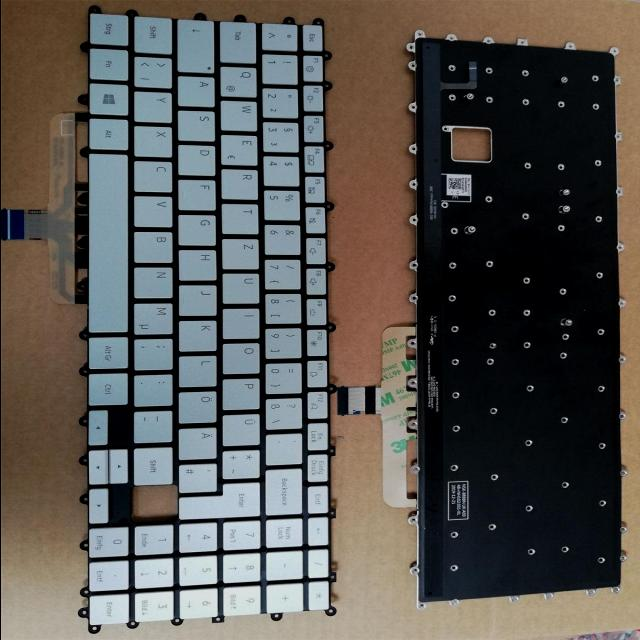0: (265, 359, 305, 392)
1: (262, 51, 301, 83)
2: (263, 85, 302, 117)
3: (264, 119, 303, 152)
4: (264, 154, 303, 185)
5: (265, 187, 304, 219)
6: (265, 222, 305, 254)
7: (265, 257, 305, 289)
8: (266, 290, 305, 322)
9: (266, 325, 305, 357)
a: (179, 74, 219, 106)
accent: (267, 430, 307, 463)
ae: (180, 425, 220, 459)
alt-left: (90, 116, 132, 150)
altgr-right: (89, 334, 131, 368)
b: (135, 228, 177, 262)
c: (135, 158, 175, 191)
caret: (262, 20, 300, 50)
comma: (135, 335, 177, 369)
d: (179, 142, 219, 174)
del: (266, 466, 306, 514)
e: (221, 132, 261, 164)
enter: (181, 480, 264, 518)
f: (179, 176, 219, 209)
g: (179, 211, 219, 244)
h: (180, 247, 220, 279)
hash: (180, 461, 220, 492)
i: (224, 306, 264, 338)
j: (181, 282, 221, 315)
k: (179, 317, 221, 351)
keyboard: (77, 6, 337, 625)
l: (180, 353, 220, 386)
less: (135, 53, 175, 87)
m: (134, 300, 176, 334)
minus: (136, 407, 176, 442)
n: (135, 264, 177, 298)
o: (224, 339, 264, 373)
oe: (180, 388, 220, 422)
p: (224, 374, 264, 408)
plus: (224, 447, 264, 478)
point: (136, 371, 176, 405)
q: (221, 63, 261, 97)
r: (222, 166, 262, 198)
s: (179, 108, 219, 140)
shift-left: (135, 13, 175, 53)
shift-lock: (178, 16, 218, 72)
shift-right: (134, 445, 176, 485)
space: (89, 151, 133, 333)
ss: (266, 394, 306, 428)
strg-left: (90, 10, 132, 45)
strg-right: (89, 370, 131, 405)
t: (223, 201, 262, 233)
tab: (220, 18, 260, 62)
u: (223, 270, 263, 302)
ue: (223, 411, 263, 445)
v: (135, 193, 177, 227)
w: (222, 98, 261, 130)
x: (135, 124, 175, 156)
y: (135, 89, 175, 122)
z: (223, 235, 263, 268)
